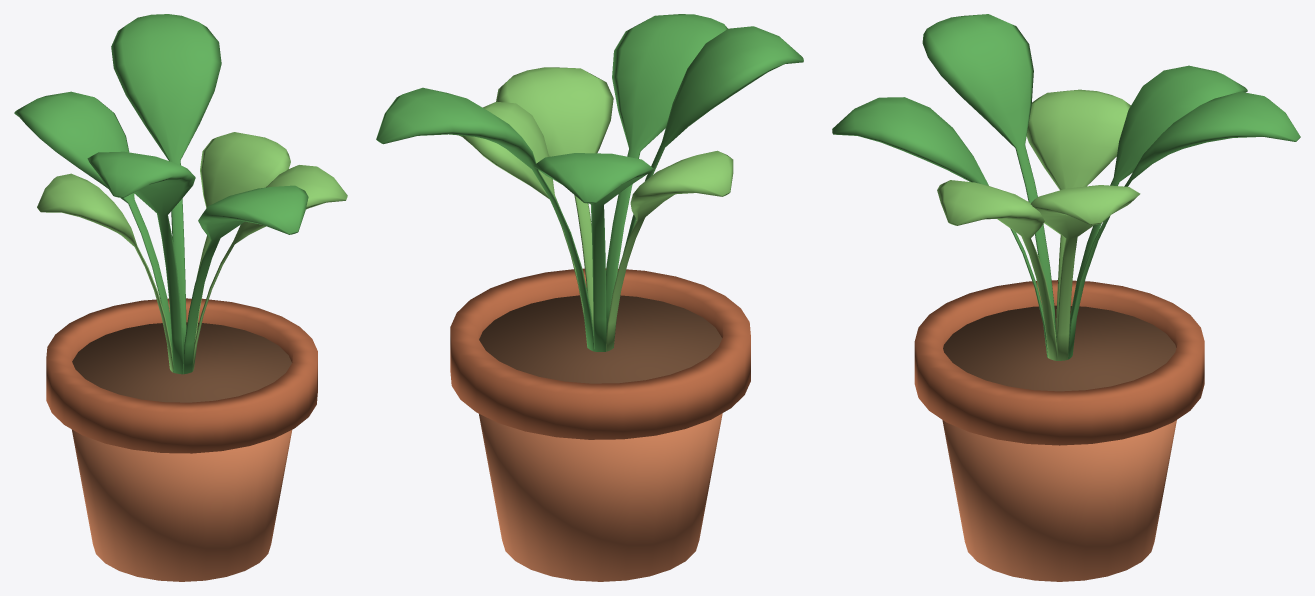
File: plant-pot.glb
3 views of the same model, side by side, from view 1: azimuth 30°, elevation 25°; view 2: azimuth 150°, elevation 25°; view 3: azimuth 270°, elevation 25° (orthographic). The views are drawn at different scales.
Parts seen in each view (by area): view 1: pot, plant; view 2: pot, plant; view 3: pot, plant.
Boxes of the visible parts, left/top/right/bottom form: pot: left=46, top=298, right=317, bottom=581; plant: left=14, top=14, right=347, bottom=374; pot: left=450, top=268, right=750, bottom=581; plant: left=376, top=14, right=803, bottom=351; pot: left=914, top=280, right=1204, bottom=581; plant: left=832, top=14, right=1300, bottom=360.
Size of the model in its own units: 0.5767 by 0.9853 by 0.8893.
